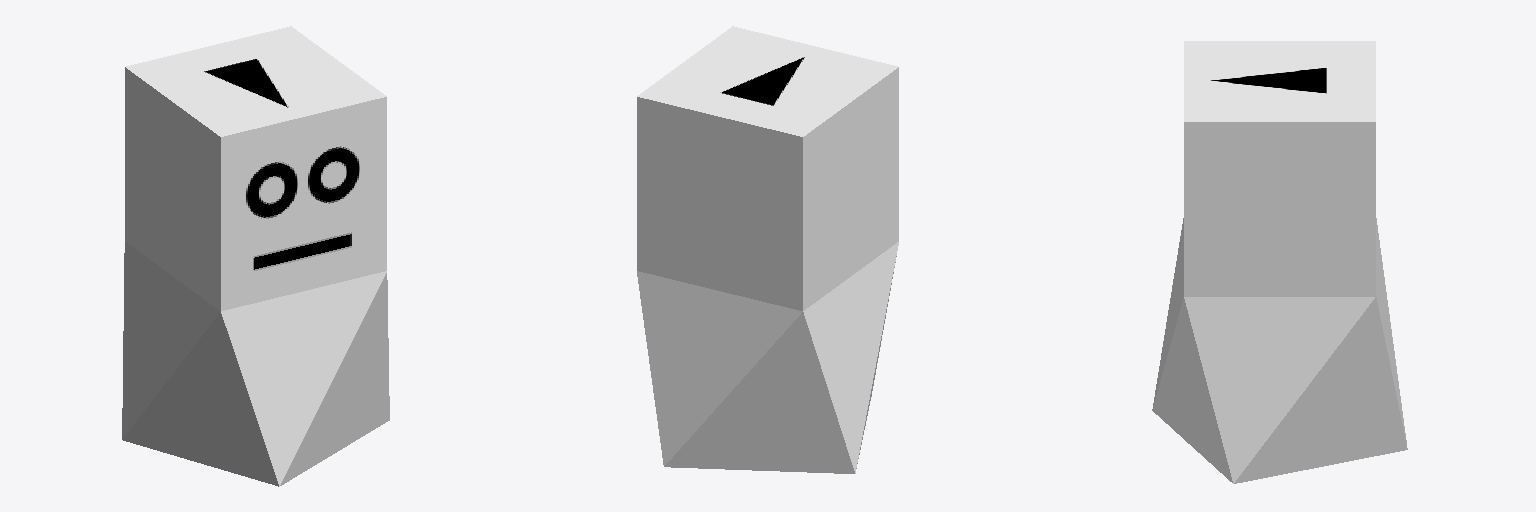
3 renders of one model, left to right at view 1: azimuth 30°, elevation 25°; view 2: azimuth 150°, elevation 25°; view 3: azimuth 270°, elevation 25°, orthographic.
Parts seen in each view (by area): view 1: Cube_Cube.001; view 2: Cube_Cube.001; view 3: Cube_Cube.001.
Part boxes in pixels (x1,y1,x2,y2): Cube_Cube.001: (122, 26, 389, 486); Cube_Cube.001: (637, 26, 898, 473); Cube_Cube.001: (1152, 41, 1407, 483).
Size of the model in its own units: 2.66 by 4 by 2.66.
Materials: 1 (1 with a texture image).